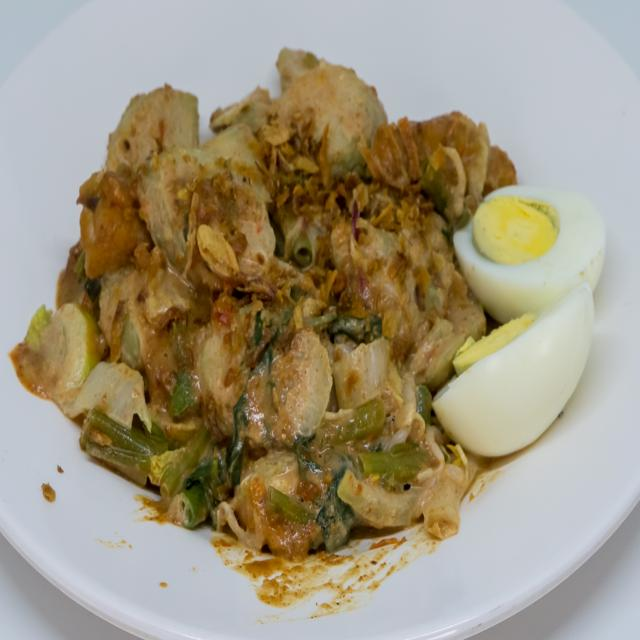Gado-Gado: (10, 24, 614, 587)
